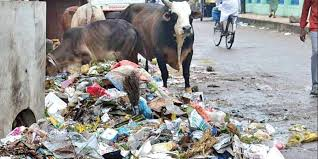garbage: (77, 96, 270, 159), (1, 120, 318, 157), (48, 78, 157, 159)
